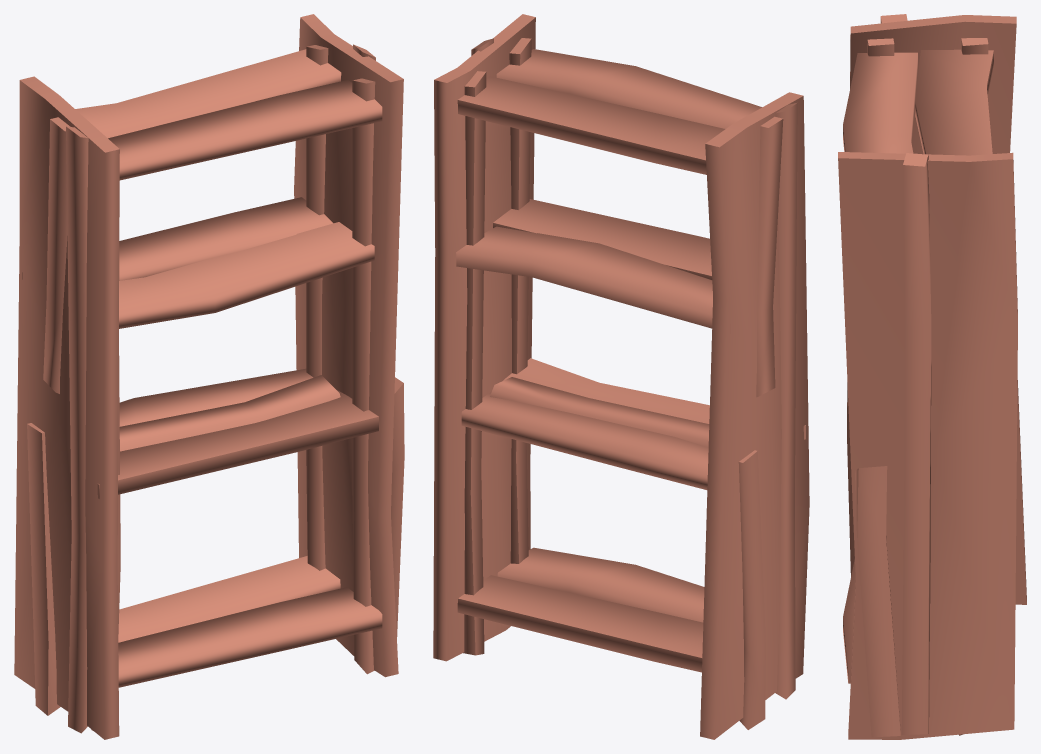
Rendered from shelf_b.fbx.
3 renders of one model, left to right at view 1: azimuth 30°, elevation 25°; view 2: azimuth 150°, elevation 25°; view 3: azimuth 270°, elevation 25°, orthographic. The views are drawn at different scales.
Parts seen in each view (by area): view 1: Cube.128; view 2: Cube.128; view 3: Cube.128.
Boxes of the visible parts, left/top/right/bottom form: Cube.128: left=14, top=14, right=404, bottom=739; Cube.128: left=433, top=14, right=809, bottom=739; Cube.128: left=838, top=14, right=1026, bottom=739.
Bounding box in the file's own units: 1.15 × 2.13 × 0.6182.
